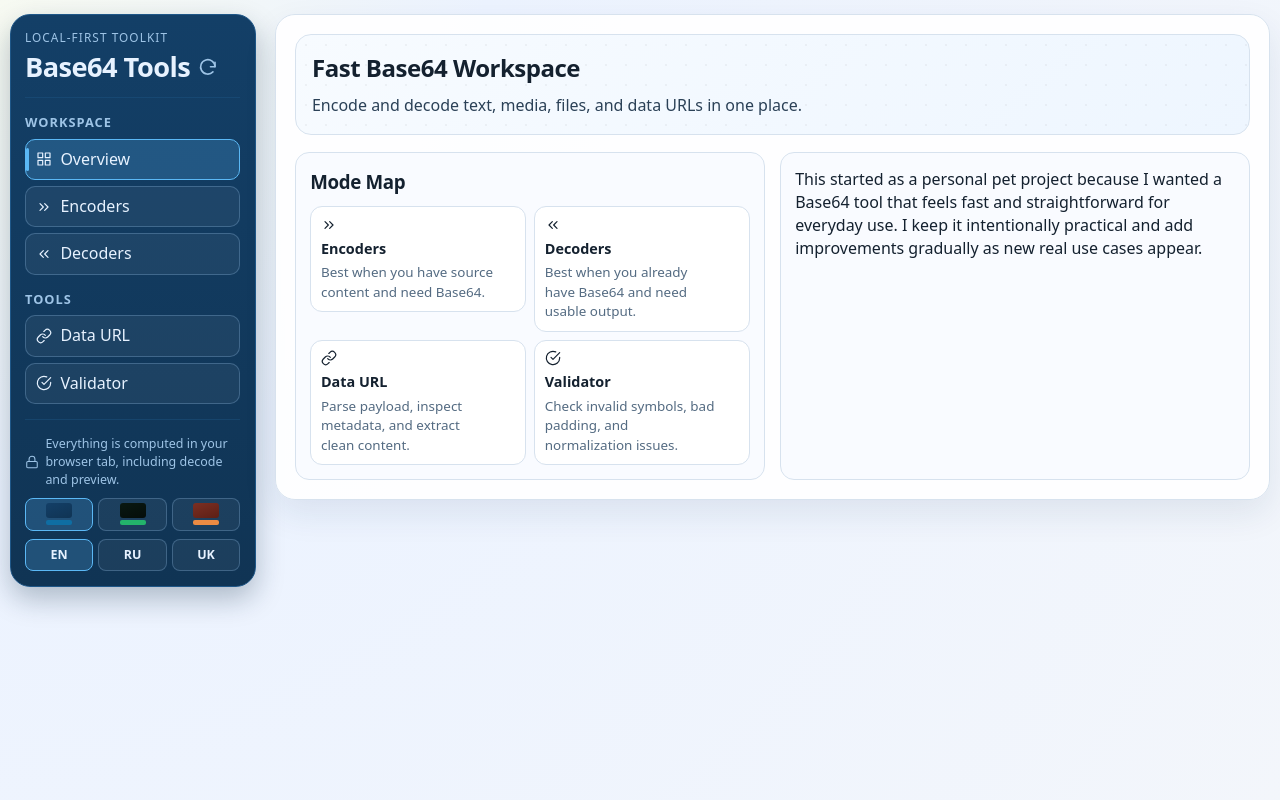
App routing › switches locale to russian and persists it
Click the radio button with aria-label "Russian". click: (133, 555)
box: top-left (98, 539), bottom-right (167, 571)
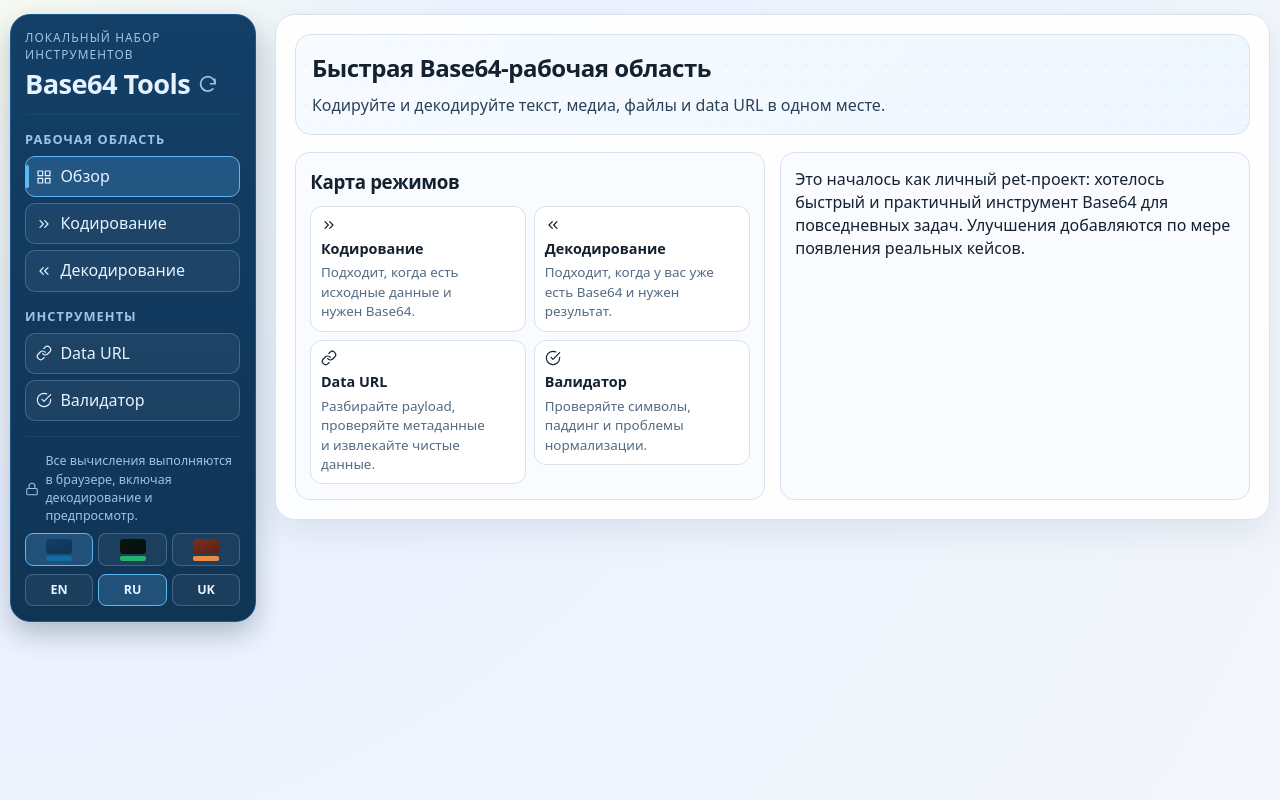
Now the heading "Быстрая Base64-рабочая область" is shown, box top-left (312, 51), bottom-right (711, 84)
